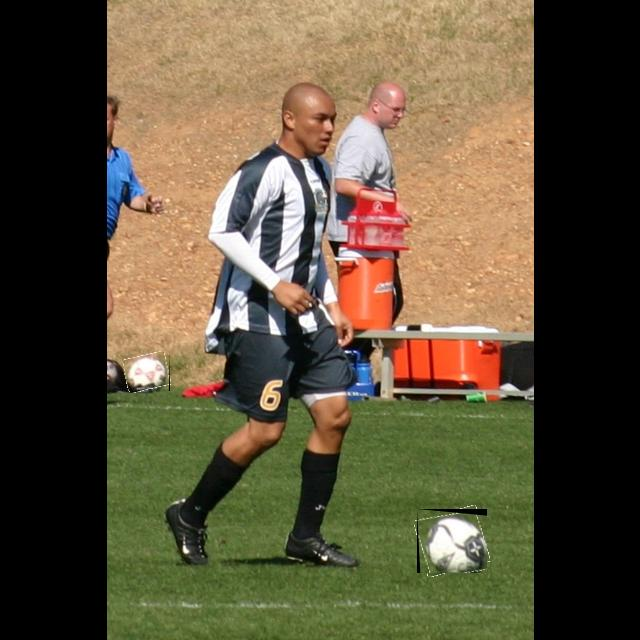Football: (417, 509, 487, 573), (124, 353, 170, 391)
